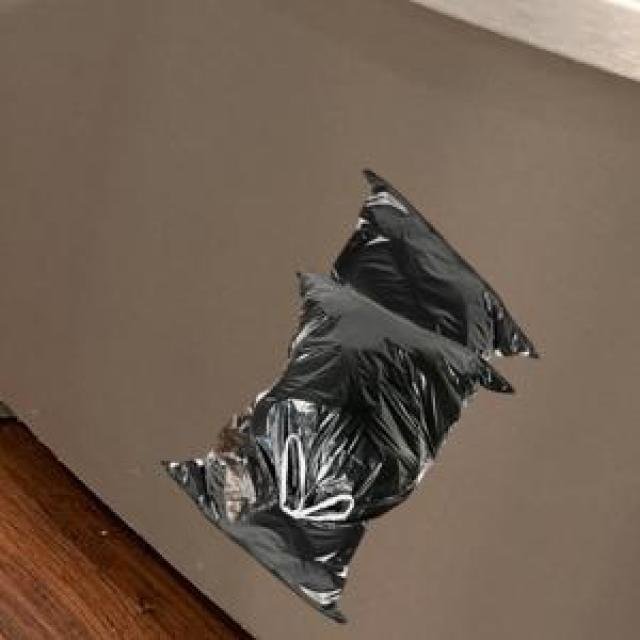waste: (169, 170, 538, 619)
